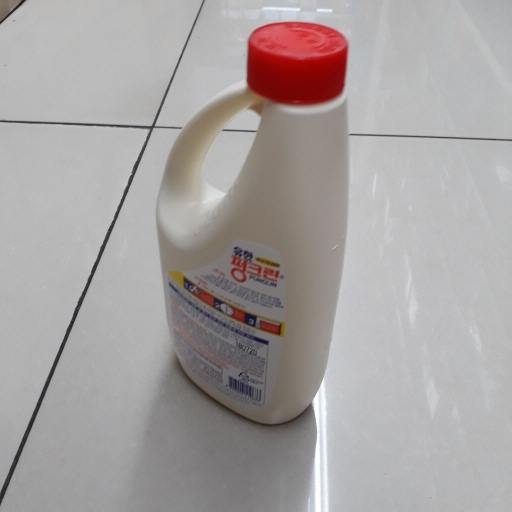Plastic_1: (156, 21, 353, 432)
